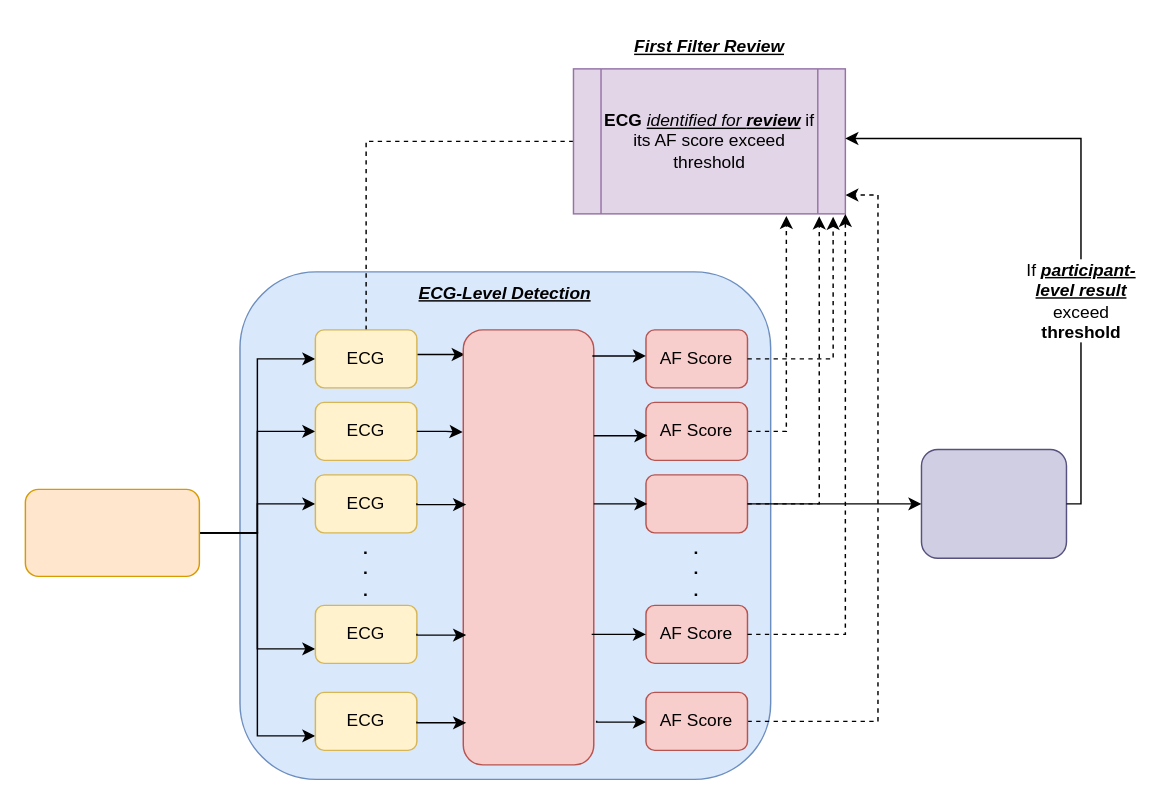
Image size: 1160x805. Some labels were removed from this diagram. The shapes that lost their labels are listed below. From the top down, each one's box as (x1, y1, x2, y2) in pixels, then its label:
(645, 473, 747, 533): AF Score (Max)
(920, 448, 1066, 558): Participant-Level Detection Result
(24, 488, 199, 576): Participant
(462, 328, 594, 765): ECG-Level AF Detection Model
